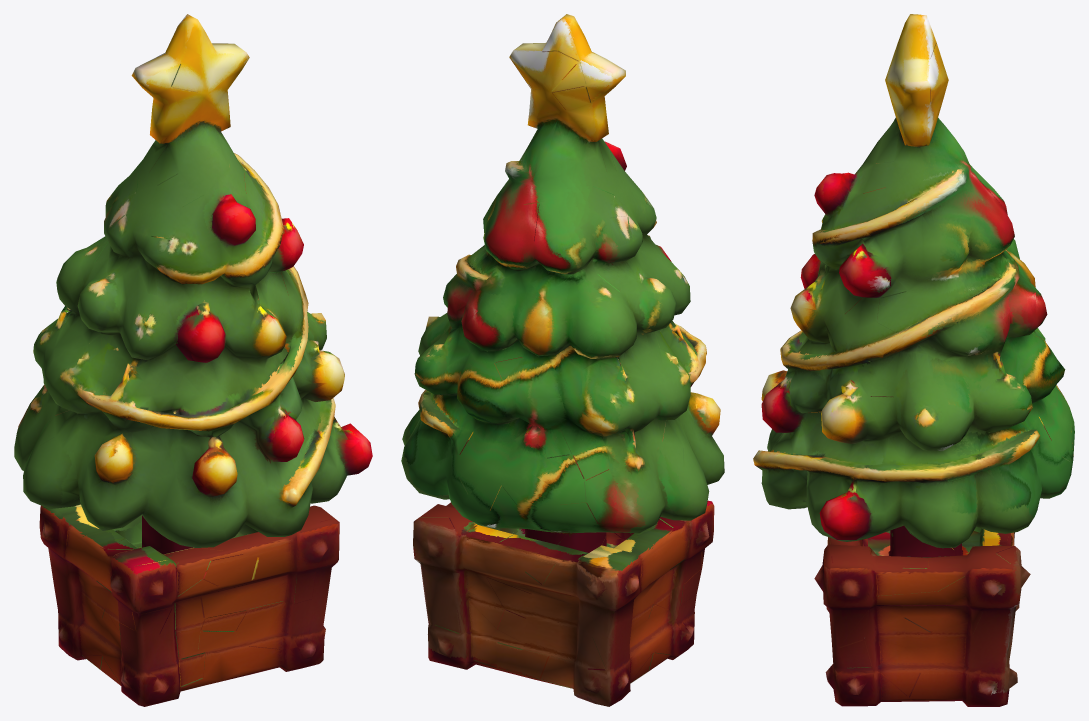
Rendered from tree-planter.glb.
3 views of the same model, side by side, from view 1: azimuth 30°, elevation 25°; view 2: azimuth 150°, elevation 25°; view 3: azimuth 270°, elevation 25° (orthographic).
Visible parts, largest first — view 1: geometry_0; view 2: geometry_0; view 3: geometry_0.
Boxes of the visible parts, x1,y1,x2,y2 form: geometry_0: (14,14,372,706); geometry_0: (401,14,724,706); geometry_0: (753,14,1074,706).
Bounding box in the file's own units: 0.968 × 1.99 × 0.8982.
1 material, 1 textured.
